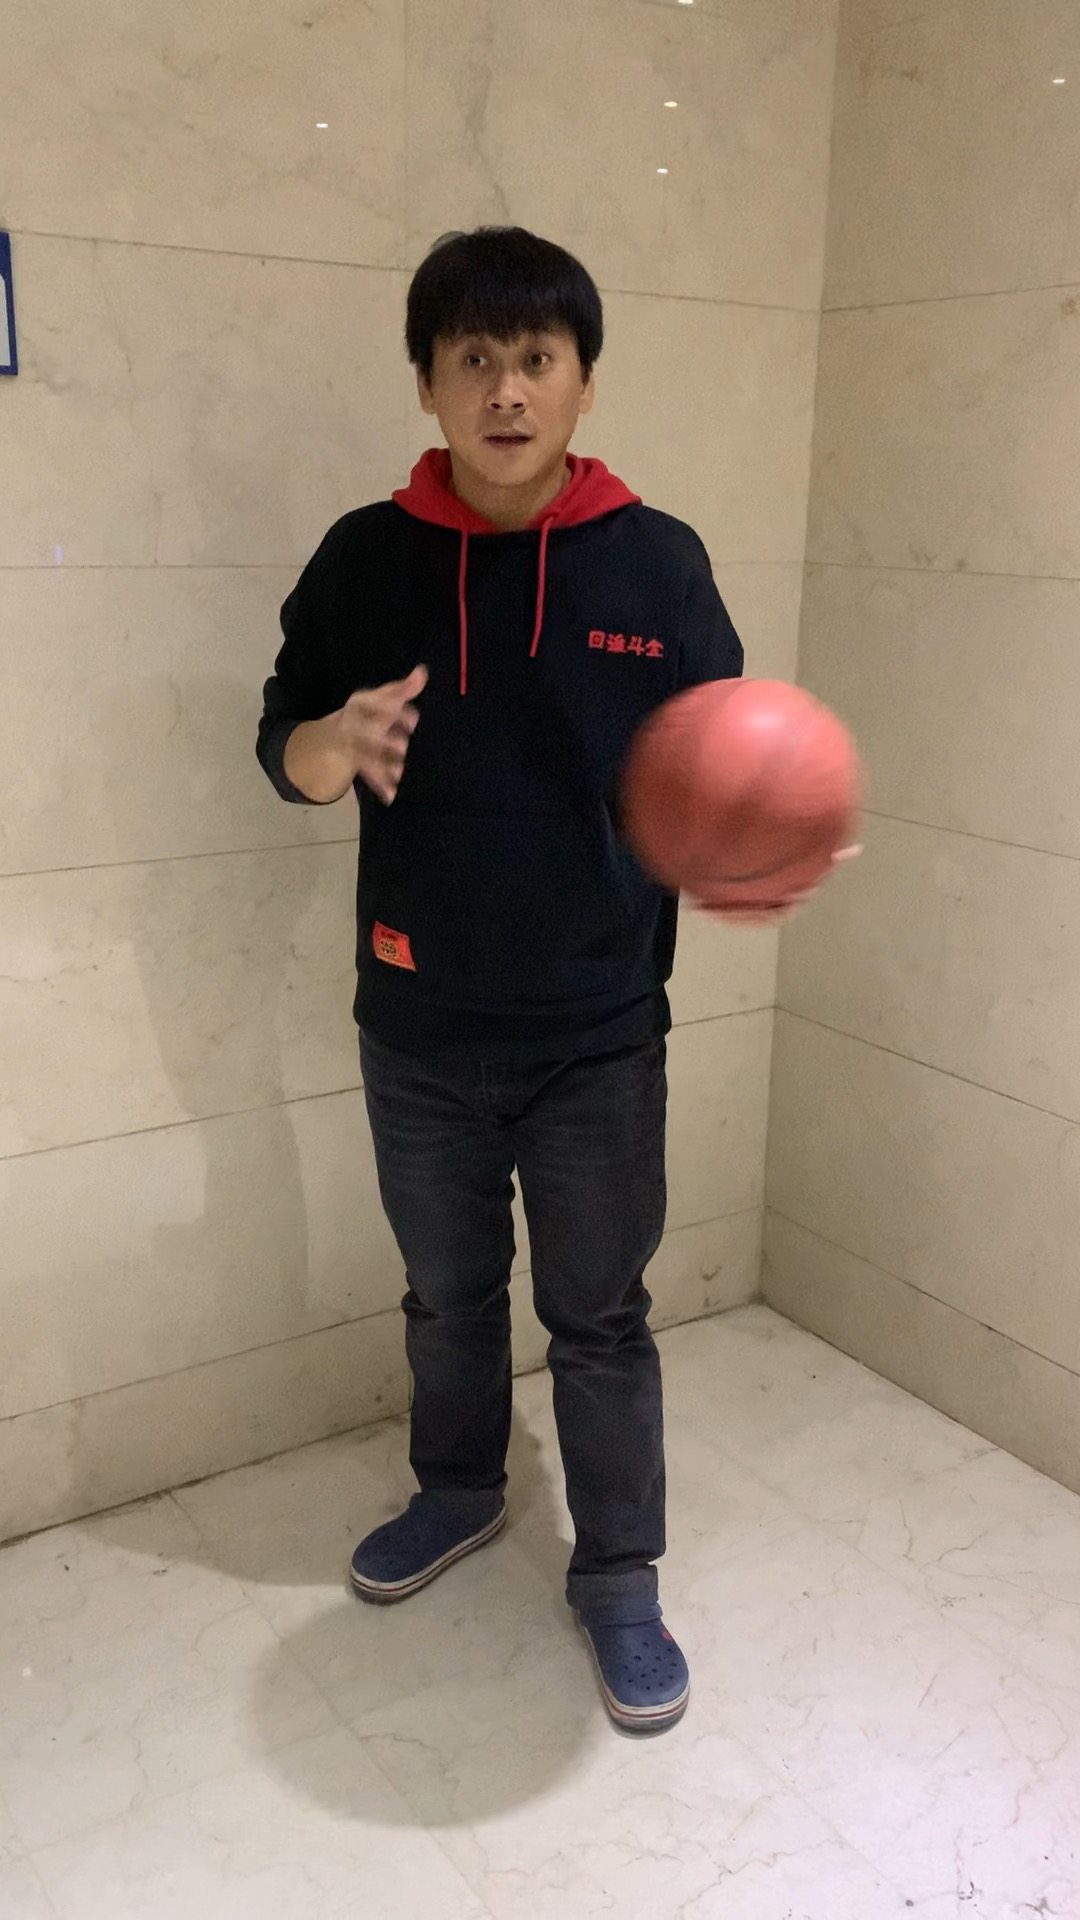ball: (632, 678, 873, 909)
